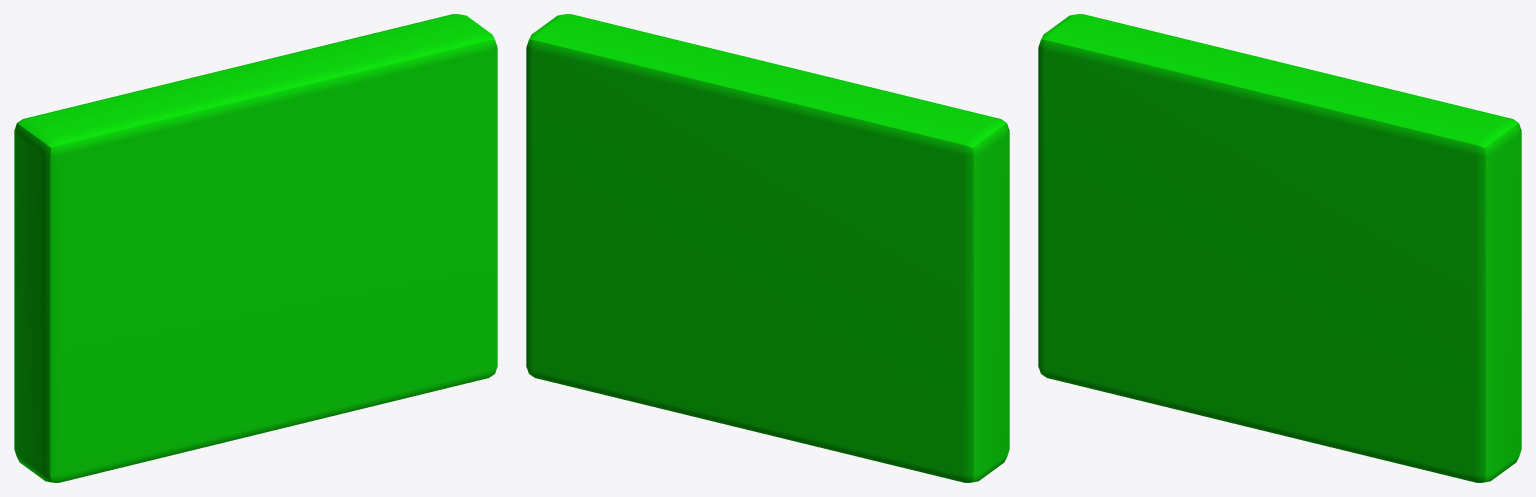
File: SillonAlmohada01B.fbx
3 views of the same model, side by side, from view 1: azimuth 30°, elevation 25°; view 2: azimuth 150°, elevation 25°; view 3: azimuth 330°, elevation 25° (orthographic).
Visible parts, largest first — view 1: pCube257; view 2: pCube257; view 3: pCube257.
Boxes of the visible parts, x1,y1,x2,y2 form: pCube257: (14,14,497,482); pCube257: (526,14,1009,482); pCube257: (1038,14,1521,482).
Size of the model in its own units: 0.776 by 0.5634 by 0.1185.
